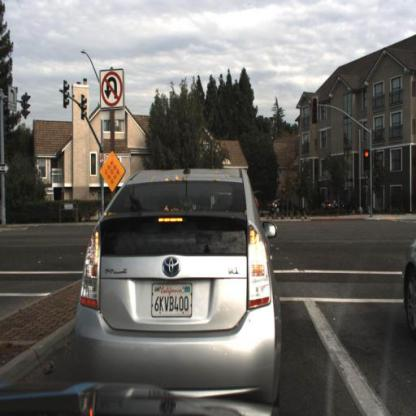car: (72, 162, 283, 401), (401, 227, 416, 354), (266, 193, 302, 222), (320, 196, 356, 216), (267, 197, 290, 216)
trafficLight-Red: (310, 92, 321, 127), (363, 148, 372, 174)
